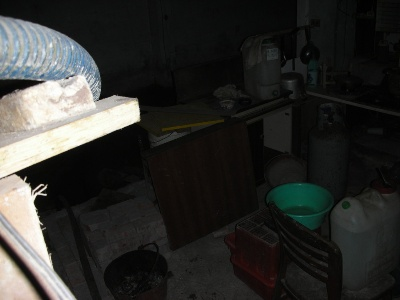bowl: (265, 182, 334, 231)
bucket: (330, 189, 400, 292), (101, 245, 170, 300)
